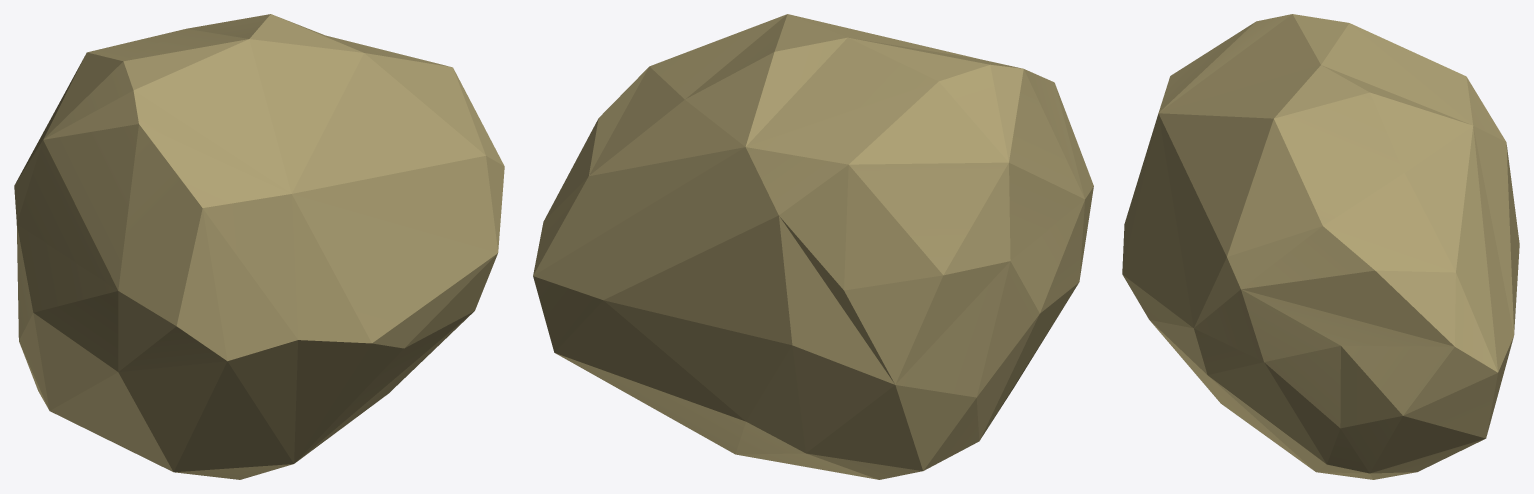
The model's file is SM_small_rock_46.fbx.
3 renders of one model, left to right at view 1: azimuth 30°, elevation 25°; view 2: azimuth 150°, elevation 25°; view 3: azimuth 270°, elevation 25°, orthographic. The views are drawn at different scales.
Visible parts, largest first — view 1: small_rock_46; view 2: small_rock_46; view 3: small_rock_46.
Boxes of the visible parts, x1,y1,x2,y2 form: small_rock_46: [14, 14, 504, 479]; small_rock_46: [533, 14, 1093, 479]; small_rock_46: [1122, 14, 1519, 479].
Size of the model in its own units: 92.07 by 81.55 by 76.9.
